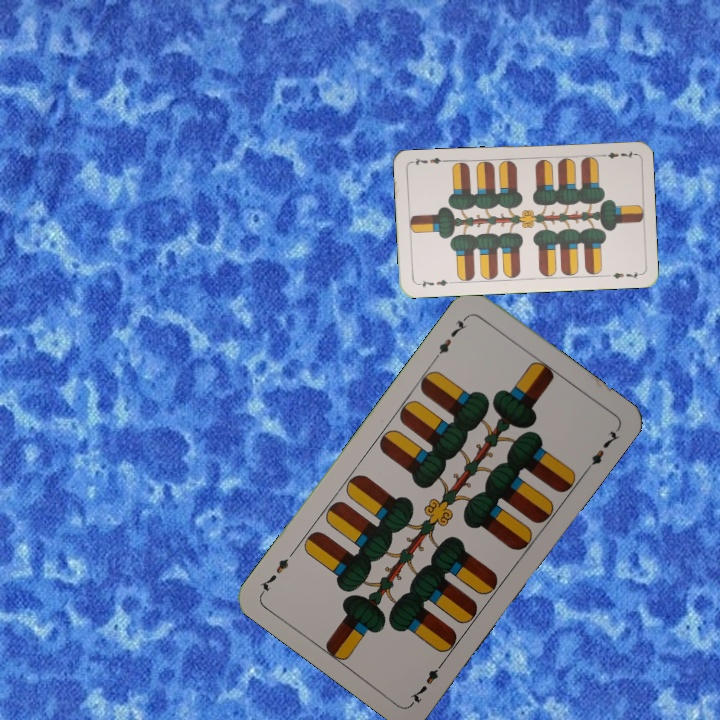E7: (405, 656, 448, 707), (430, 311, 472, 362), (413, 276, 454, 290), (596, 147, 637, 161)
